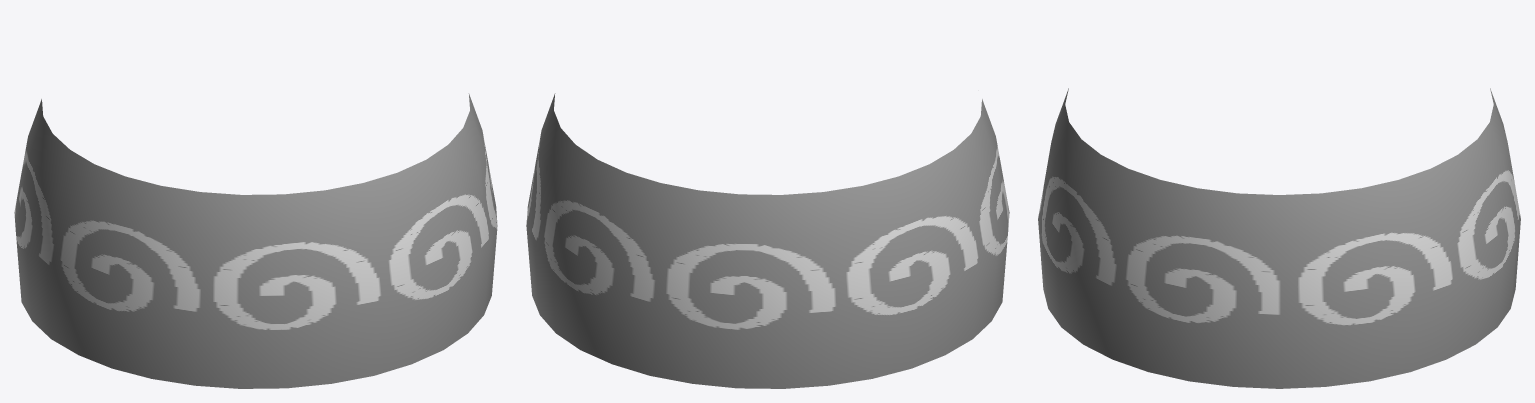
Rendered from gust_jar_band.glb.
3 renders of one model, left to right at view 1: azimuth 30°, elevation 25°; view 2: azimuth 150°, elevation 25°; view 3: azimuth 270°, elevation 25°, orthographic.
Parts seen in each view (by area): view 1: Blue belly band; view 2: Blue belly band; view 3: Blue belly band.
Part boxes in pixels (x1,y1,x2,y2): Blue belly band: (14,93,497,388); Blue belly band: (526,93,1009,388); Blue belly band: (1038,88,1520,388).
Bounding box in the file's own units: 68.75 × 29 × 68.75.
1 material, 1 textured.
